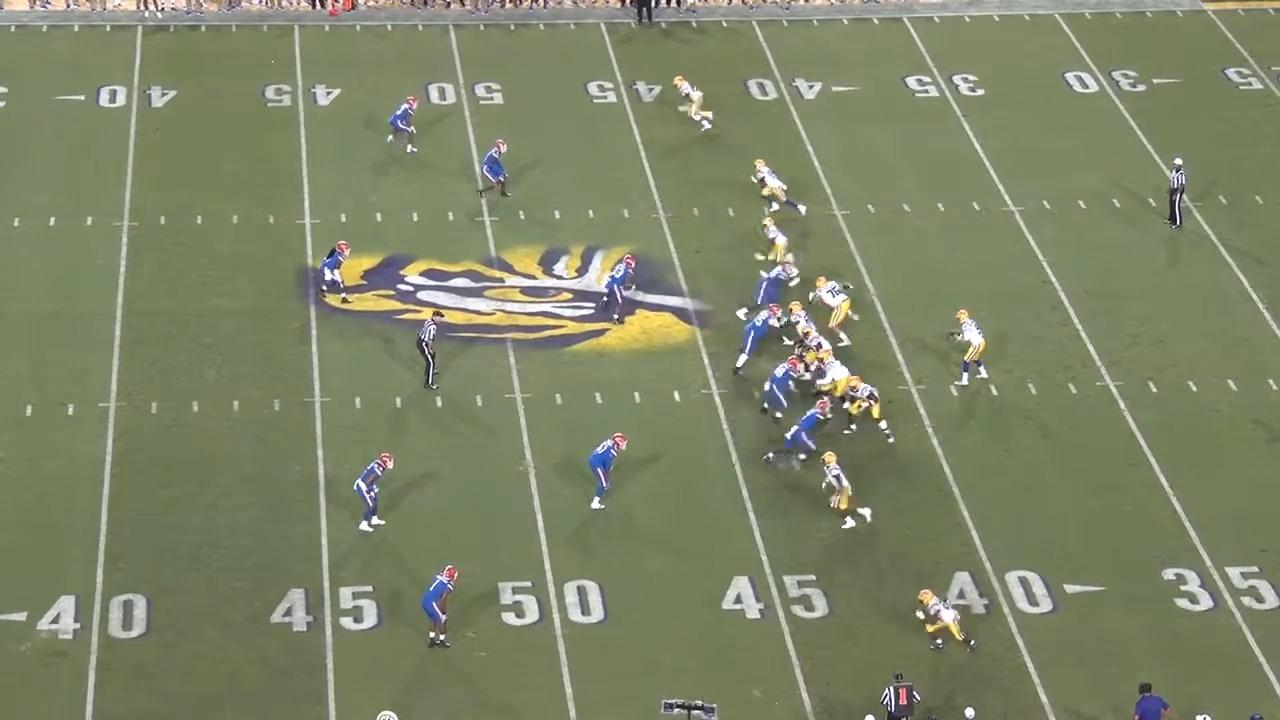player: (759, 393, 835, 470), (819, 452, 877, 537), (914, 585, 981, 656), (726, 304, 788, 378), (730, 255, 800, 318), (845, 373, 902, 445), (808, 273, 862, 349), (353, 452, 399, 538), (586, 431, 631, 515), (749, 155, 809, 217), (421, 561, 462, 651), (756, 351, 807, 422), (951, 306, 992, 391), (606, 251, 646, 327), (812, 354, 856, 419), (671, 71, 715, 133), (479, 138, 517, 205), (321, 240, 357, 308), (378, 94, 415, 160), (754, 216, 798, 269), (782, 300, 821, 357), (798, 327, 837, 362)
ref: (409, 309, 446, 394), (1163, 153, 1192, 233), (877, 668, 922, 717), (630, 0, 661, 28)
